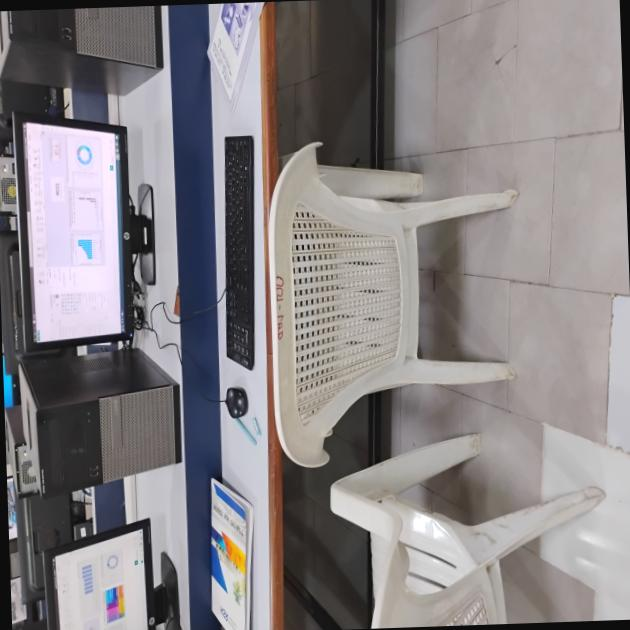chair: (246, 147, 514, 452)
computer: (0, 104, 164, 347), (33, 534, 172, 630)
cpu: (15, 353, 197, 492)
keyboard: (214, 137, 262, 380)
notebook: (199, 467, 255, 630)
